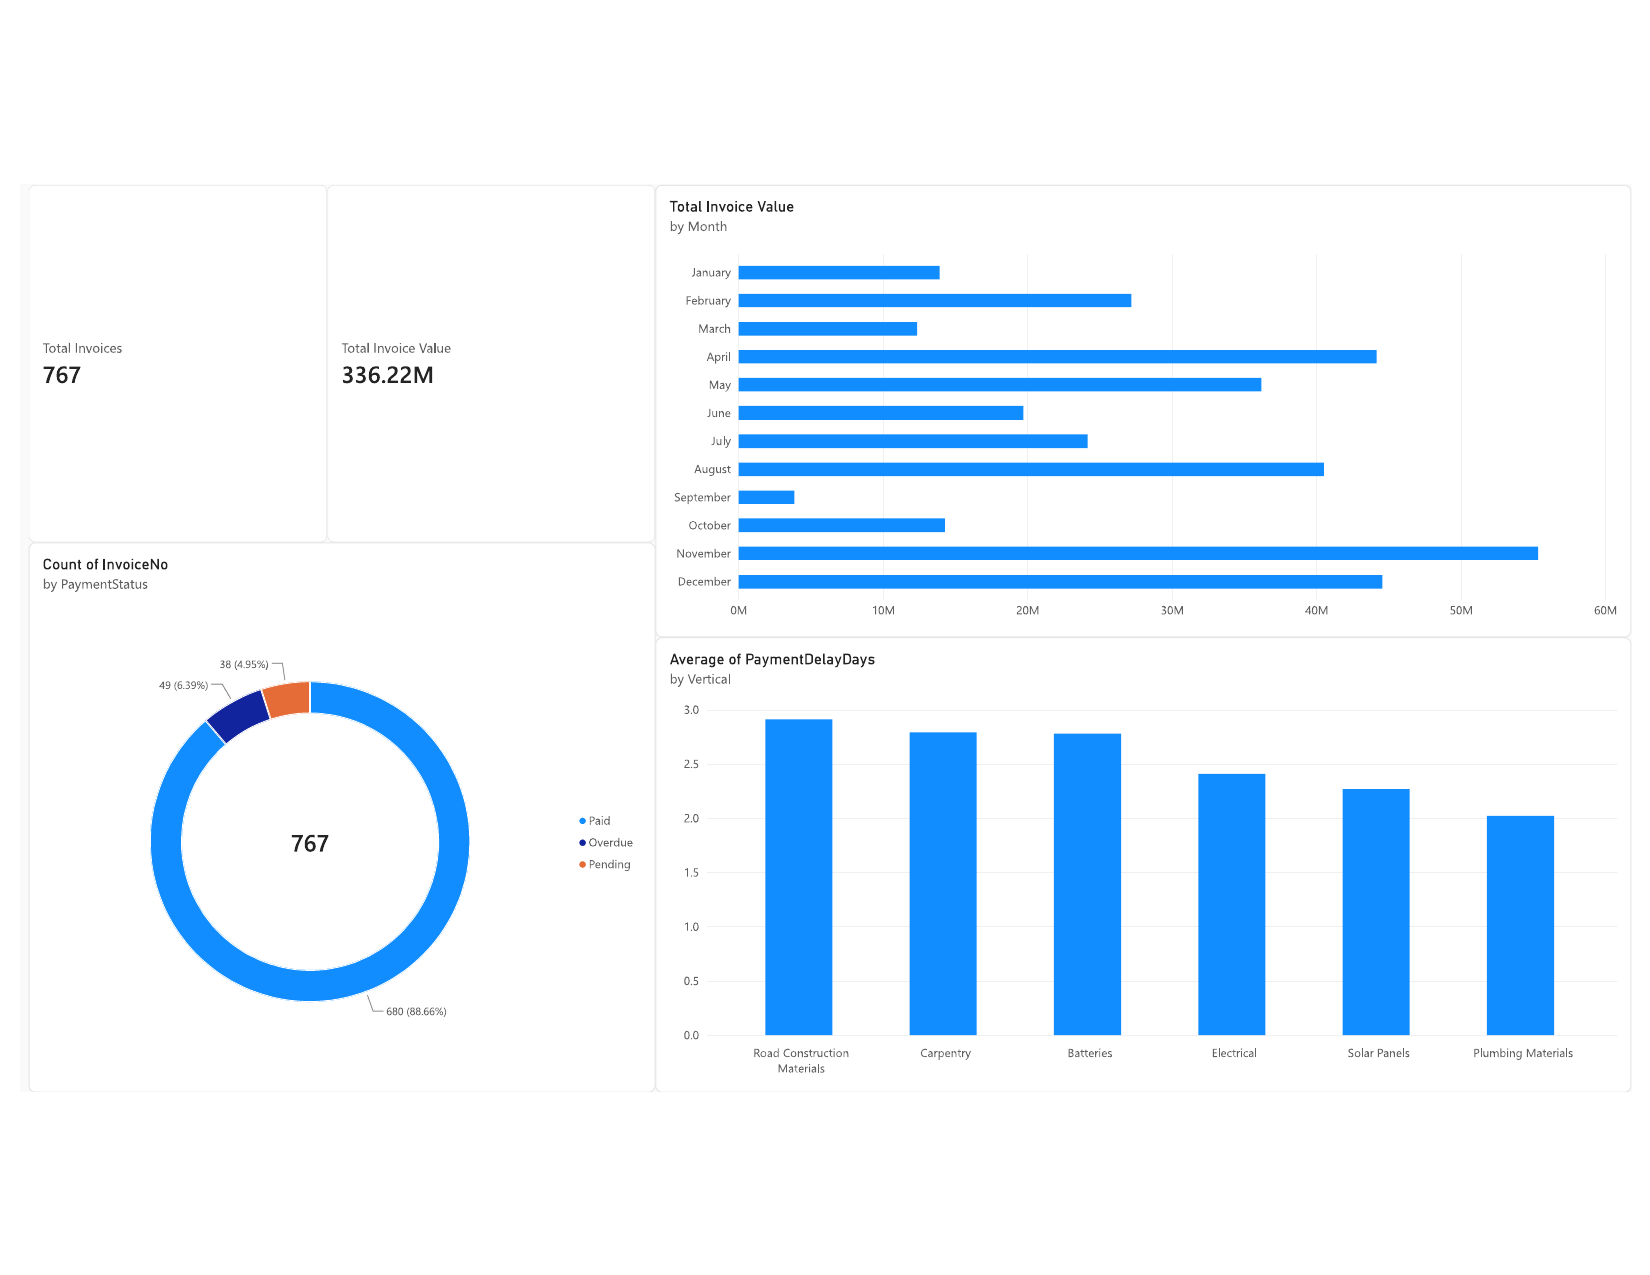

The page's visual inventory and layout, read from the dashboard file:
{"tool":"powerbi","page":{"name":"Invoice Processing","canvas":[1920,1080],"ordinal":7},"visuals":[{"type":"cardVisual","fields":{"Data":["PO_Data.Total Invoices"]},"box":[10.3,0,356.1,426.1],"z":0},{"type":"cardVisual","fields":{"Data":["PO_Data.Total Invoice Value"]},"box":[366.4,0,391.1,426.1],"z":1000},{"type":"clusteredBarChart","fields":{"Category":["Invoice_Data.InvoiceDate.Variation.Date Hierarchy.Month"],"Y":["PO_Data.Total Invoice Value"]},"box":[757.5,0,1163,539.3],"z":2000},{"type":"donutChart","fields":{"Category":["Invoice_Data.PaymentStatus"],"Y":["CountNonNull(Invoice_Data.InvoiceNo)"]},"box":[10.3,426.1,747.2,654.5],"z":3000},{"type":"clusteredColumnChart","fields":{"Category":["Invoice_Data.Vertical"],"Y":["Avg(Invoice_Data.PaymentDelayDays)"]},"box":[757.5,539.3,1163,541.3],"z":4000}]}

Visuals, with their boxes on the page's 1920x1080 design canvas (x1, y1, x2, y2). These are canvas units, not pixel positions in the 1650x1275 screenshot, which may show the page scaled, cropped or inside an application window:
cardVisual - PO_Data.Total Invoices: left=10, top=0, right=366, bottom=426
cardVisual - PO_Data.Total Invoice Value: left=366, top=0, right=758, bottom=426
clusteredBarChart - Invoice_Data.InvoiceDate.Variation.Date Hierarchy.Month x PO_Data.Total Invoice Value: left=758, top=0, right=1920, bottom=539
donutChart - Invoice_Data.PaymentStatus x CountNonNull(Invoice_Data.InvoiceNo): left=10, top=426, right=758, bottom=1081
clusteredColumnChart - Invoice_Data.Vertical x Avg(Invoice_Data.PaymentDelayDays): left=758, top=539, right=1920, bottom=1081
